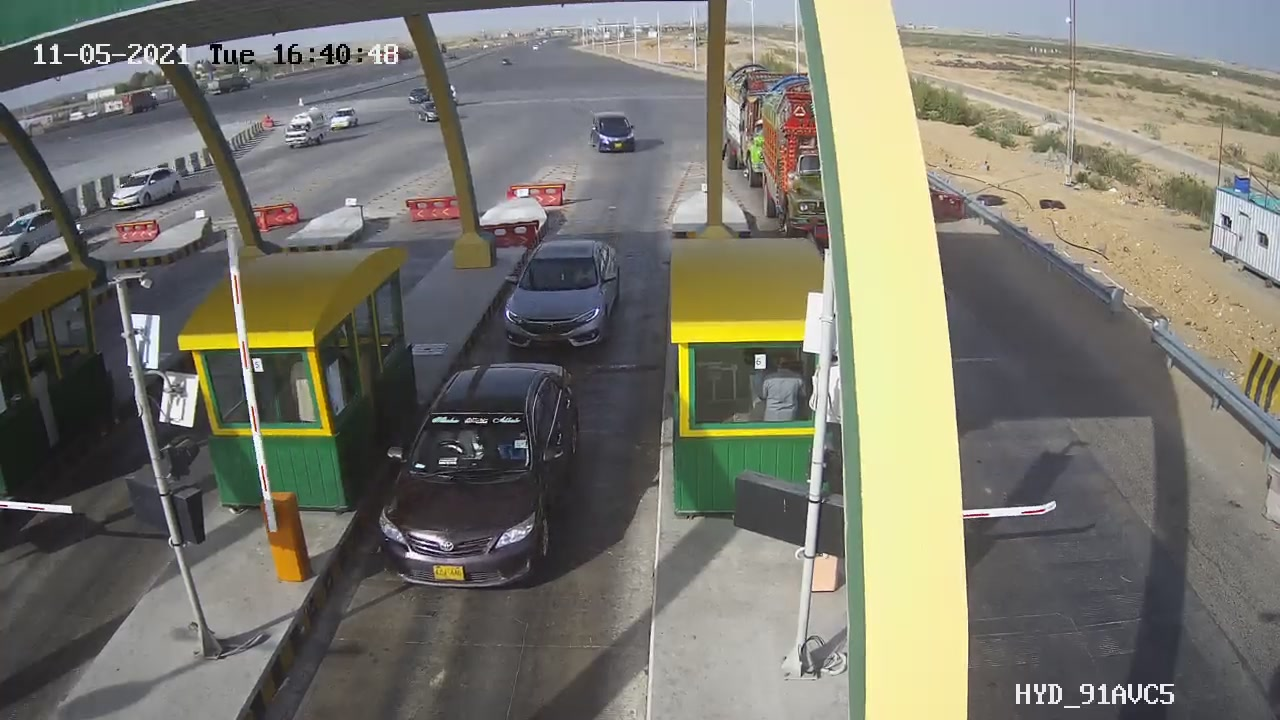F1: (362, 353, 592, 603), (491, 228, 631, 358)
